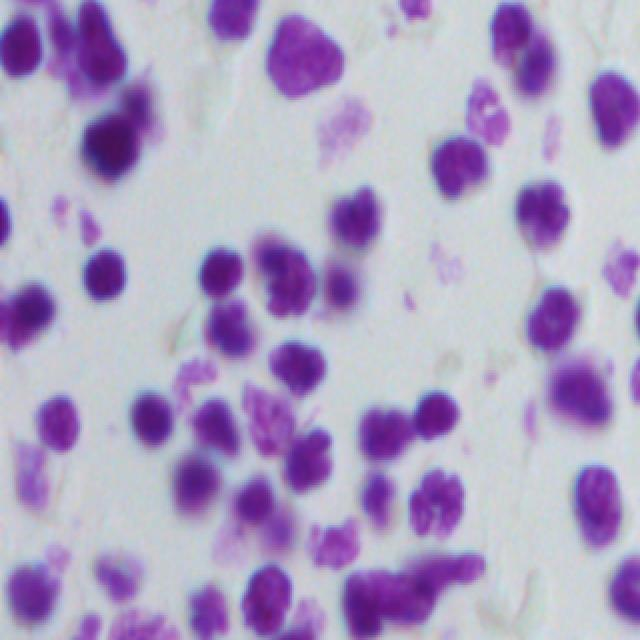cell: (251, 188, 381, 316), (344, 553, 484, 637), (241, 384, 330, 491), (430, 80, 510, 199), (15, 395, 80, 510), (361, 389, 460, 462), (200, 248, 260, 359), (266, 14, 345, 98), (241, 564, 324, 637), (82, 88, 150, 177), (491, 3, 556, 96), (232, 477, 295, 549), (9, 548, 69, 623), (550, 356, 612, 426), (515, 180, 570, 250), (590, 72, 640, 148), (410, 469, 465, 537), (574, 466, 620, 546), (319, 98, 372, 166), (0, 284, 55, 349), (528, 286, 581, 352), (270, 341, 328, 399), (172, 450, 221, 513), (191, 400, 239, 457), (78, 30, 126, 84), (0, 14, 41, 75), (311, 519, 360, 568), (84, 248, 126, 300), (96, 553, 141, 601), (131, 394, 171, 446), (190, 584, 229, 637), (84, 250, 126, 299), (174, 364, 219, 409), (361, 470, 396, 527), (602, 244, 640, 296), (384, 1, 436, 38), (611, 556, 640, 621), (114, 609, 175, 637), (431, 241, 465, 286), (210, 3, 253, 38), (542, 114, 560, 162), (401, 0, 431, 22), (1, 198, 11, 245), (631, 358, 640, 402)
